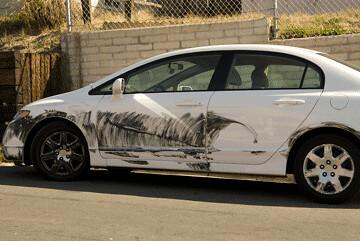doorouter-dent: (91, 99, 209, 172)
fender-dent: (9, 103, 92, 132)
